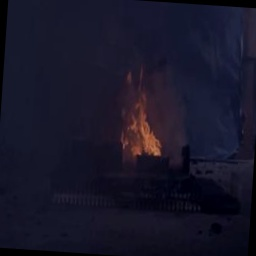fire: (121, 87, 167, 171)
